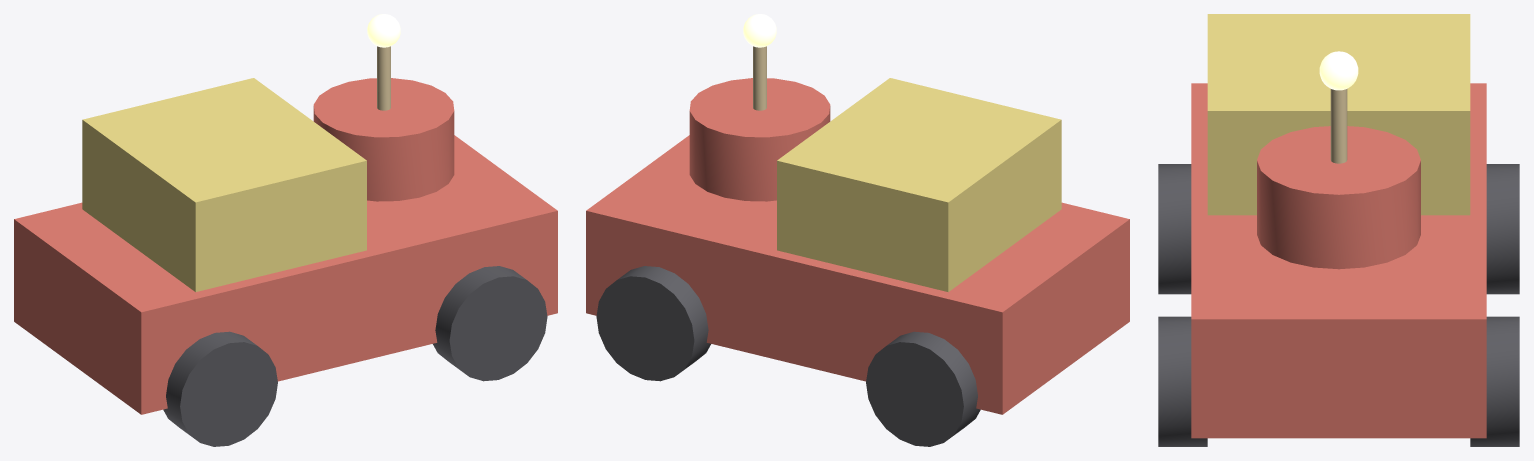
Rendered from xe_phao.glb.
The picture shows the model from 3 angles, left to right: view 1: azimuth 30°, elevation 25°; view 2: azimuth 150°, elevation 25°; view 3: azimuth 270°, elevation 25°; orthographic projection. The views are drawn at different scales.
Visible parts, largest first — view 1: Box1, Box2, Cyl1, Cyl6, Cyl4, Sph1, Cyl2; view 2: Box1, Box2, Cyl1, Cyl5, Cyl3, Sph1, Cyl2; view 3: Box1, Box2, Cyl1, Cyl5, Cyl6, Cyl3, Cyl4, Cyl2, Sph1.
Boxes of the visible parts, x1,y1,x2,y2 form: Box1: (14,135,557,414); Box2: (82,78,366,292); Cyl1: (313,78,454,201); Cyl6: (433,266,547,381); Cyl4: (163,331,277,446); Sph1: (367,14,400,47); Cyl2: (377,46,390,110); Box1: (586,135,1129,414); Box2: (777,78,1061,292); Cyl1: (689,78,830,201); Cyl5: (596,266,710,381); Cyl3: (866,331,980,446); Sph1: (743,14,776,47); Cyl2: (753,46,766,110); Box1: (1191,83,1486,438); Box2: (1207,14,1470,215); Cyl1: (1257,126,1420,269); Cyl5: (1470,316,1519,446); Cyl6: (1158,316,1207,446); Cyl3: (1486,164,1519,294); Cyl4: (1158,164,1191,294); Cyl2: (1330,89,1347,163); Sph1: (1319,51,1358,90).
Bounding box in the file's own units: 0.34 × 0.247 × 0.22.
